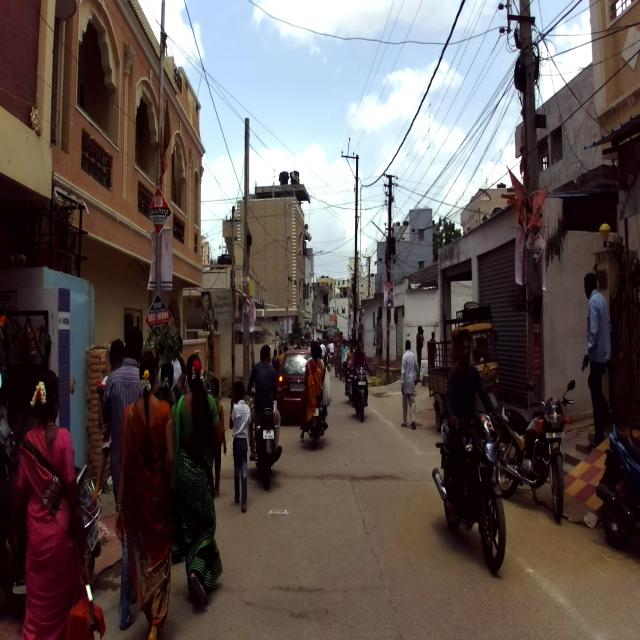autorickshaw: (426, 300, 500, 432)
motorcycle: (432, 409, 509, 573), (494, 379, 576, 521), (595, 425, 640, 548), (245, 387, 282, 489), (301, 365, 331, 449)
scooter: (0, 372, 103, 608)
